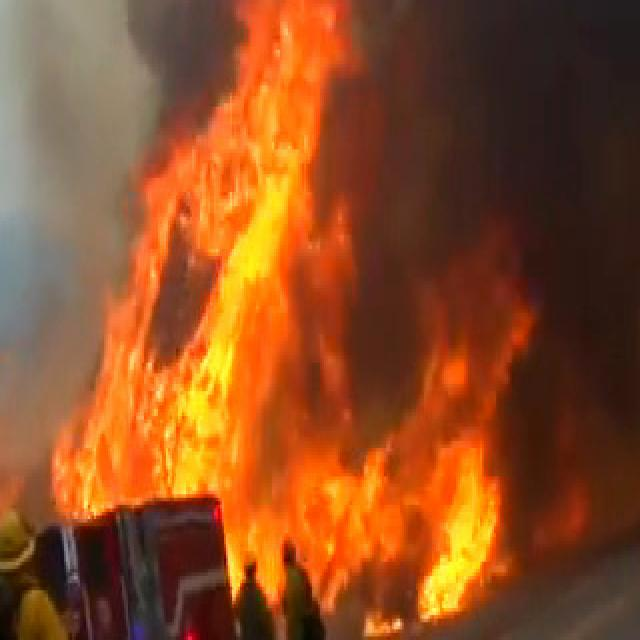fire: (68, 0, 346, 473), (329, 102, 510, 629)
